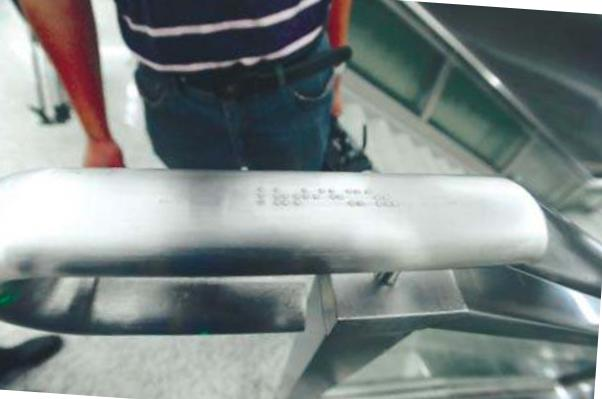Braille: (365, 187, 382, 208), (385, 186, 401, 208), (274, 186, 290, 207), (257, 185, 273, 205), (346, 188, 363, 206), (328, 188, 344, 207), (293, 187, 308, 206), (312, 188, 325, 207)
